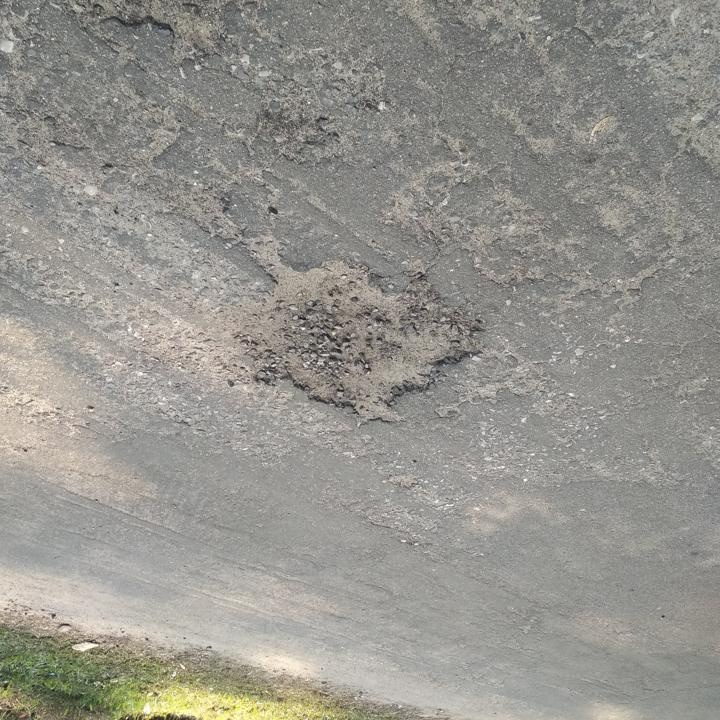pothole: (215, 256, 487, 430), (75, 0, 237, 62)
